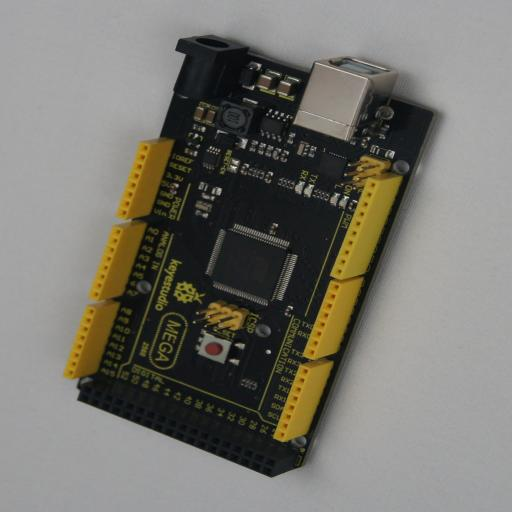Arduino Mega 2560 -Black and Yellow-: (70, 35, 440, 477)
